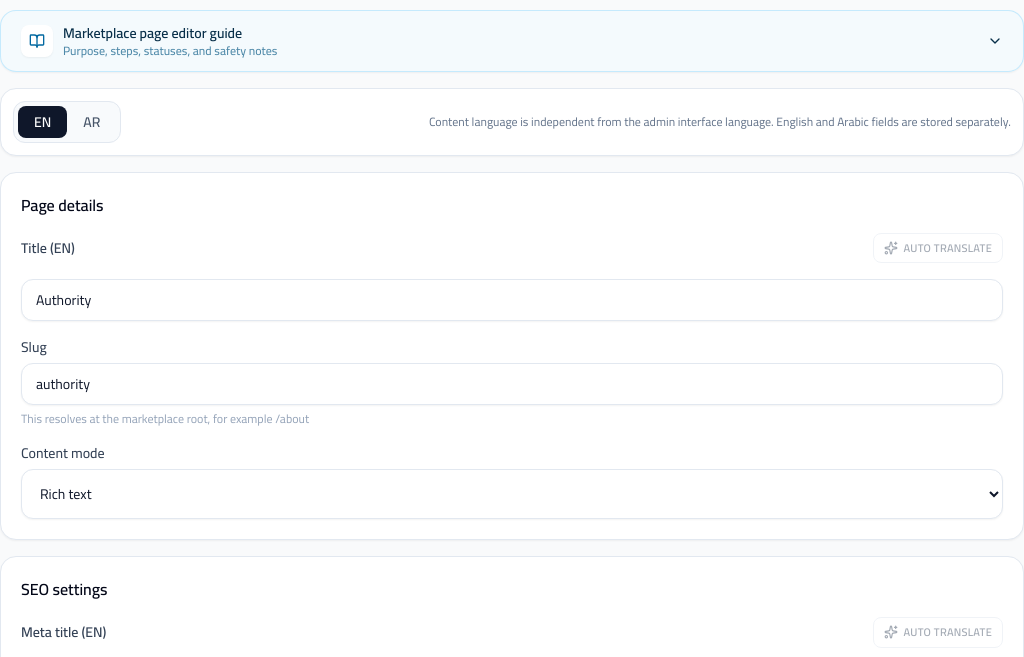
MarketplaceCmsPageEditor version adoption › keeps preview isolated while unsaved changes are present
The image size is (1024, 657).
(page scrolled)
Replace the text in the field showing "authority" with "preview-draft" at (512, 384), box [21,363,1003,405]
(page scrolled)
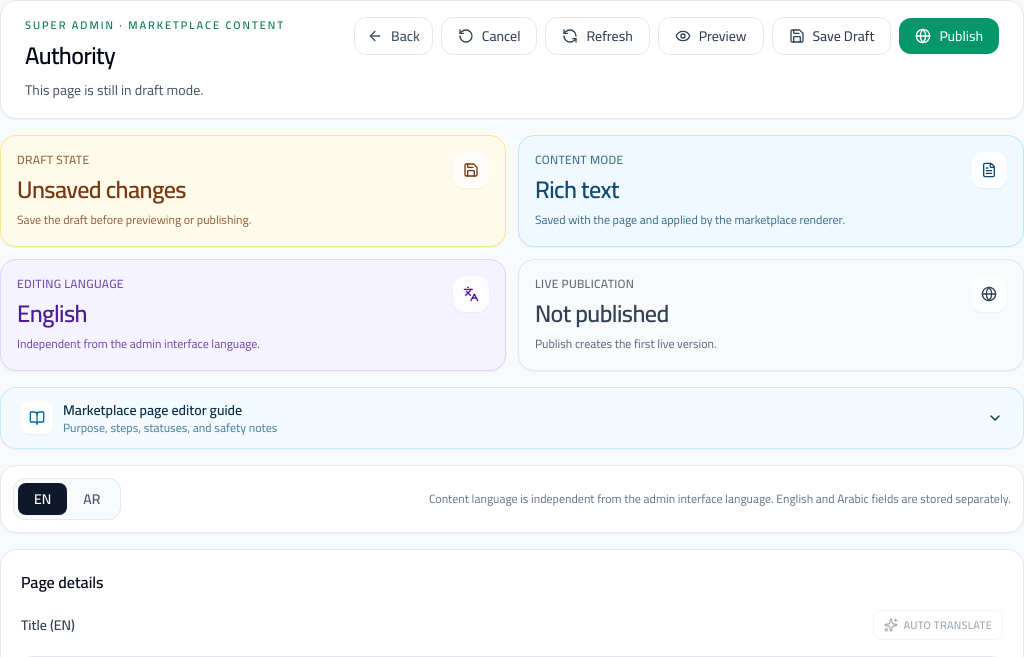
Result: the text "Unsaved changes" is shown at [17,166,186,212]
Click the button "Preview".
click(711, 36)  # box [658,17,764,55]
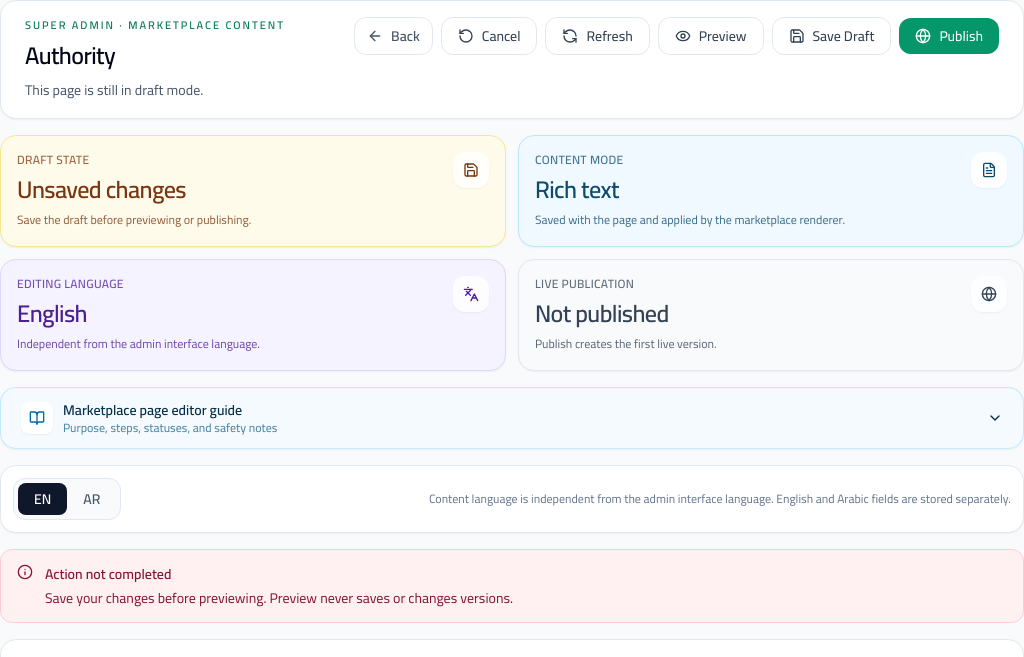
Result: the text "Save your changes before previewing. Preview never saves or changes versions." is shown at [45,584,513,610]
